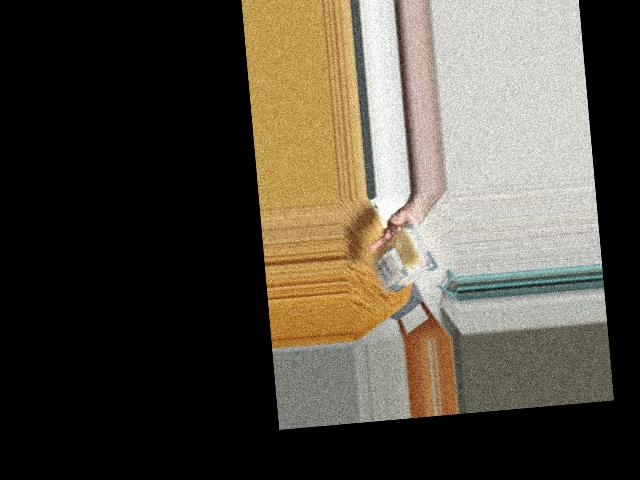cheese: (374, 222, 435, 298)
